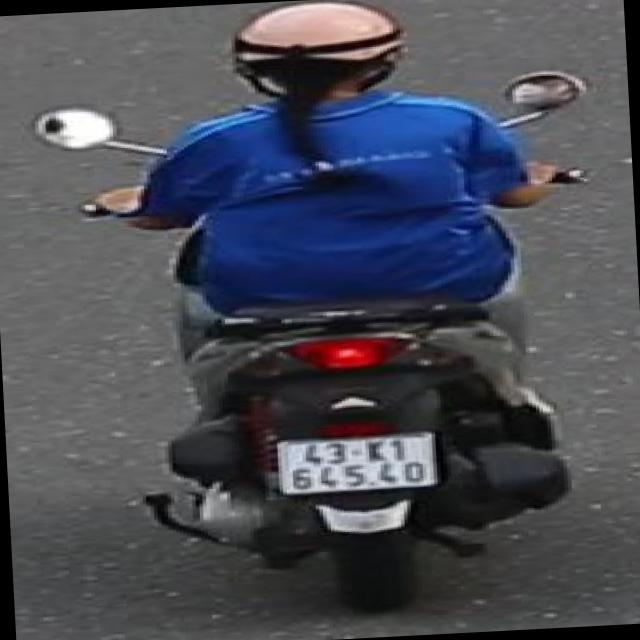LP: (268, 427, 447, 502)
helmet: (222, 0, 417, 107)
